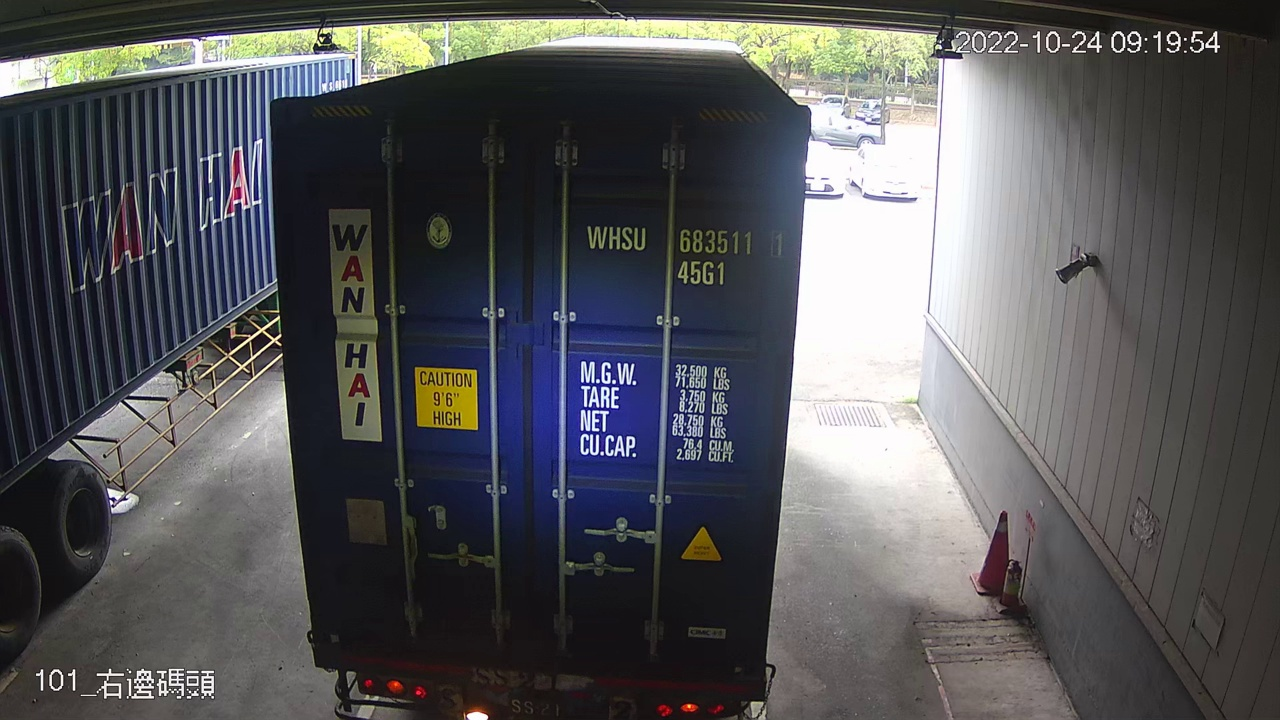container: (576, 213, 790, 292)
